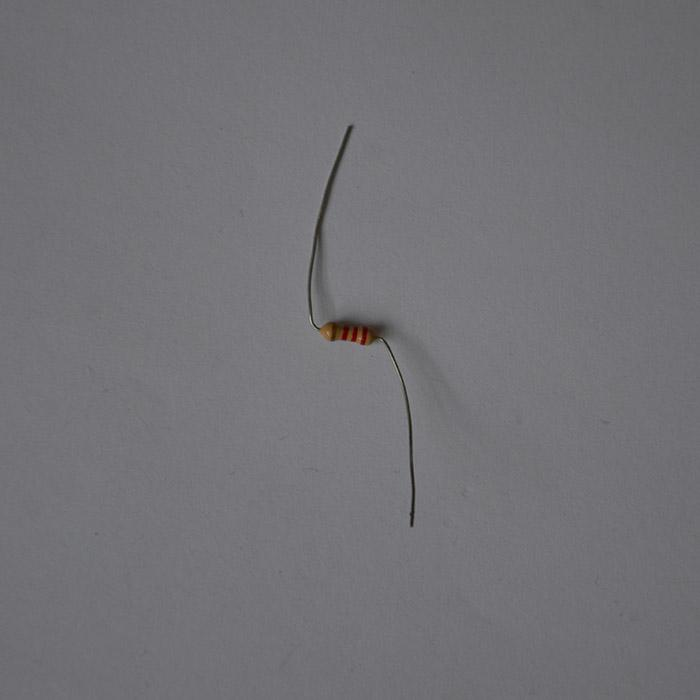resistor: (318, 321, 376, 346)
